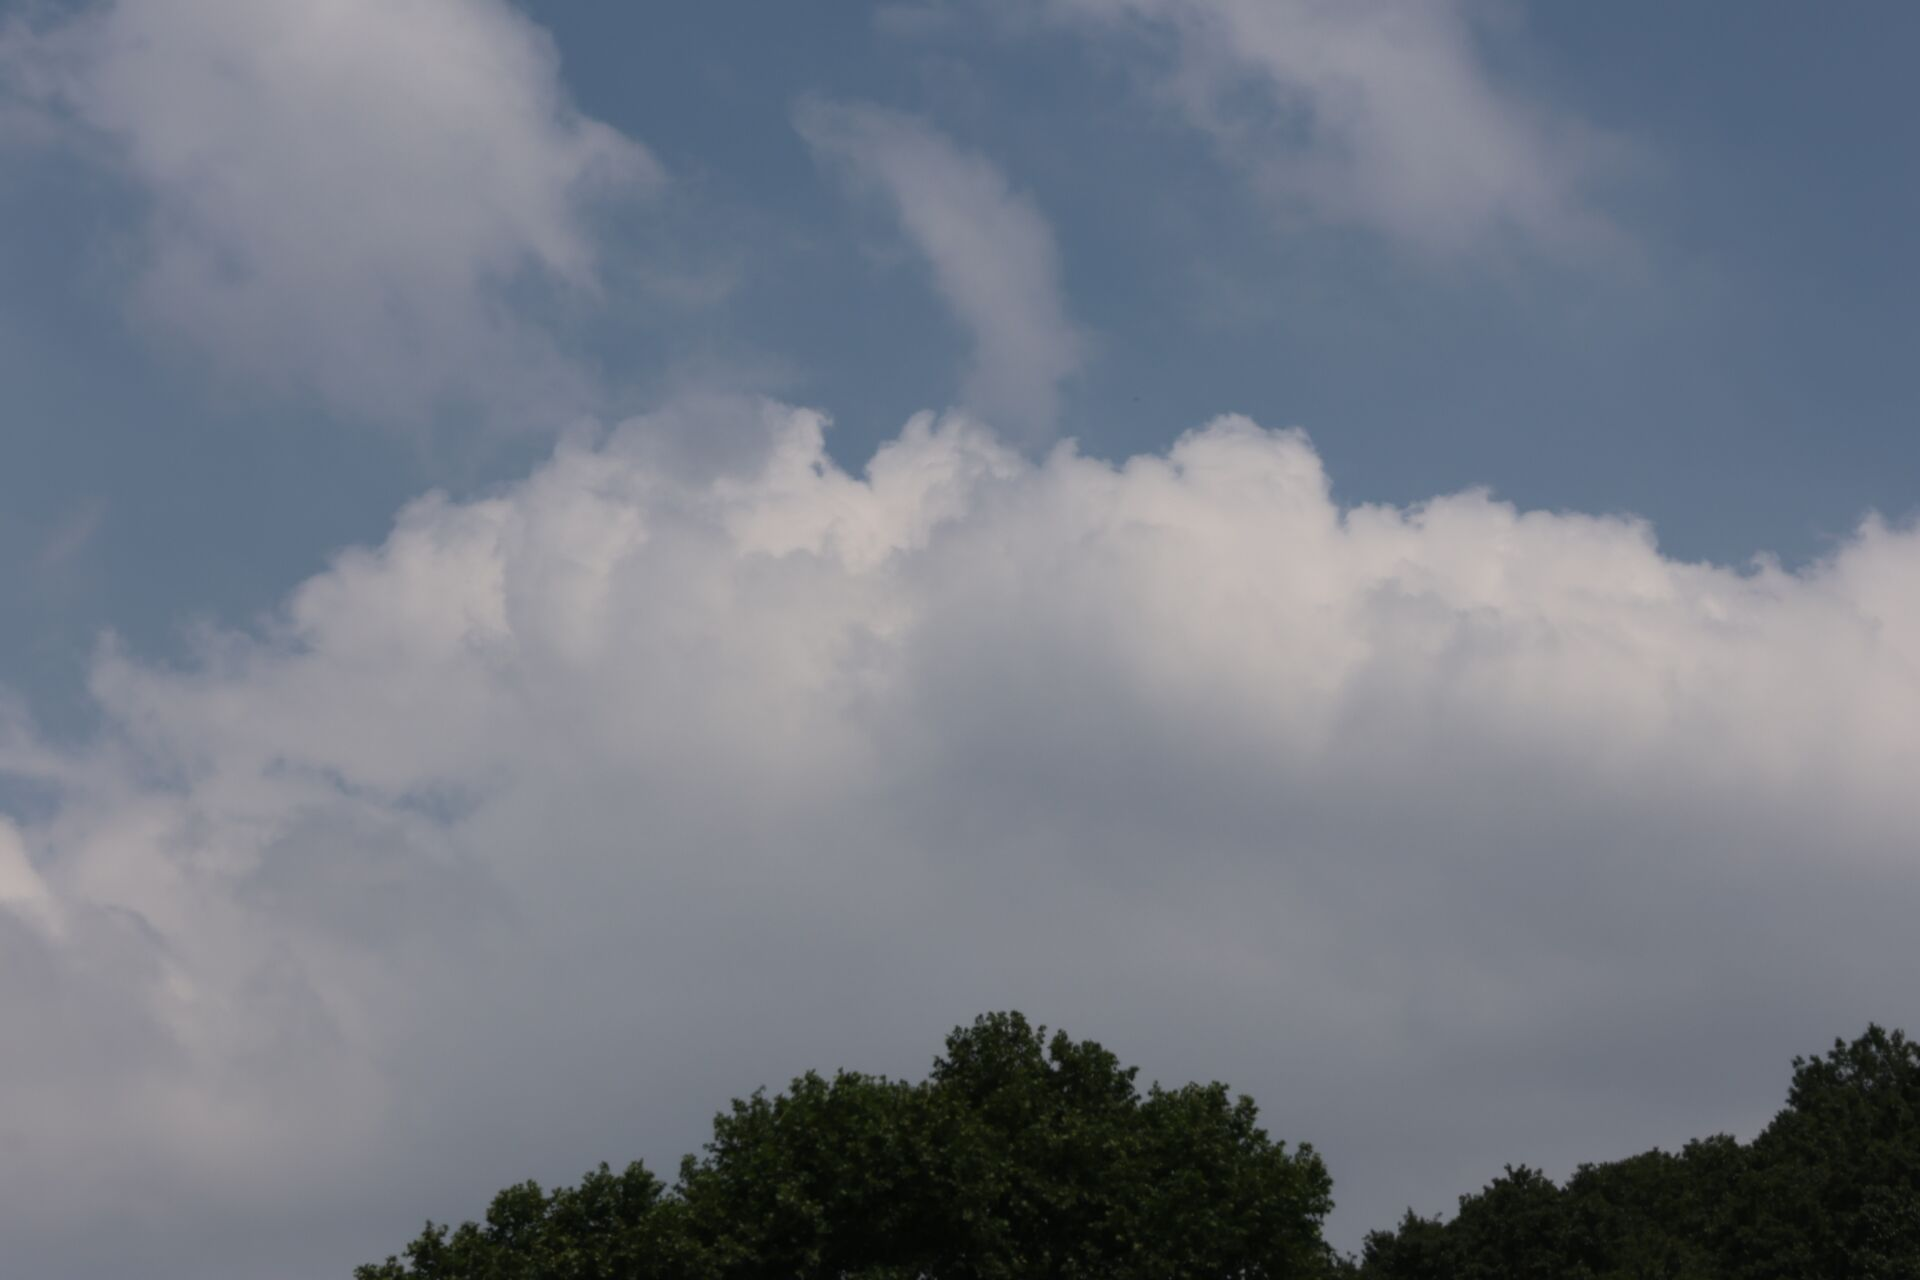Cumulus: (19, 389, 1920, 1149), (54, 9, 684, 453)
